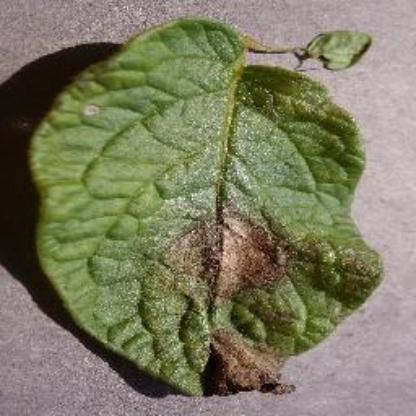Late-Blight: (32, 28, 408, 406)
